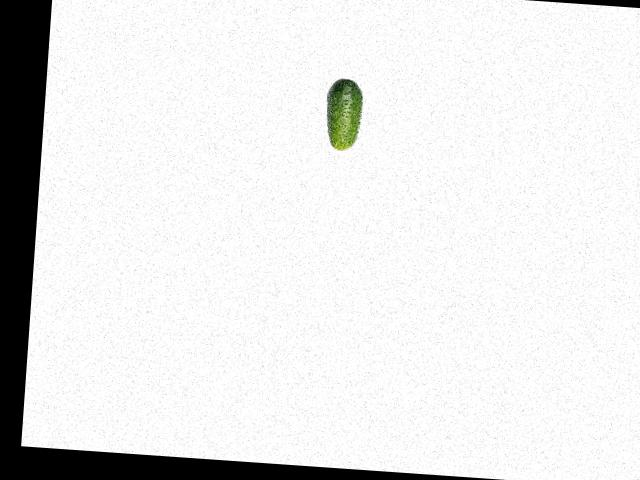cucumber: (323, 77, 365, 152)
